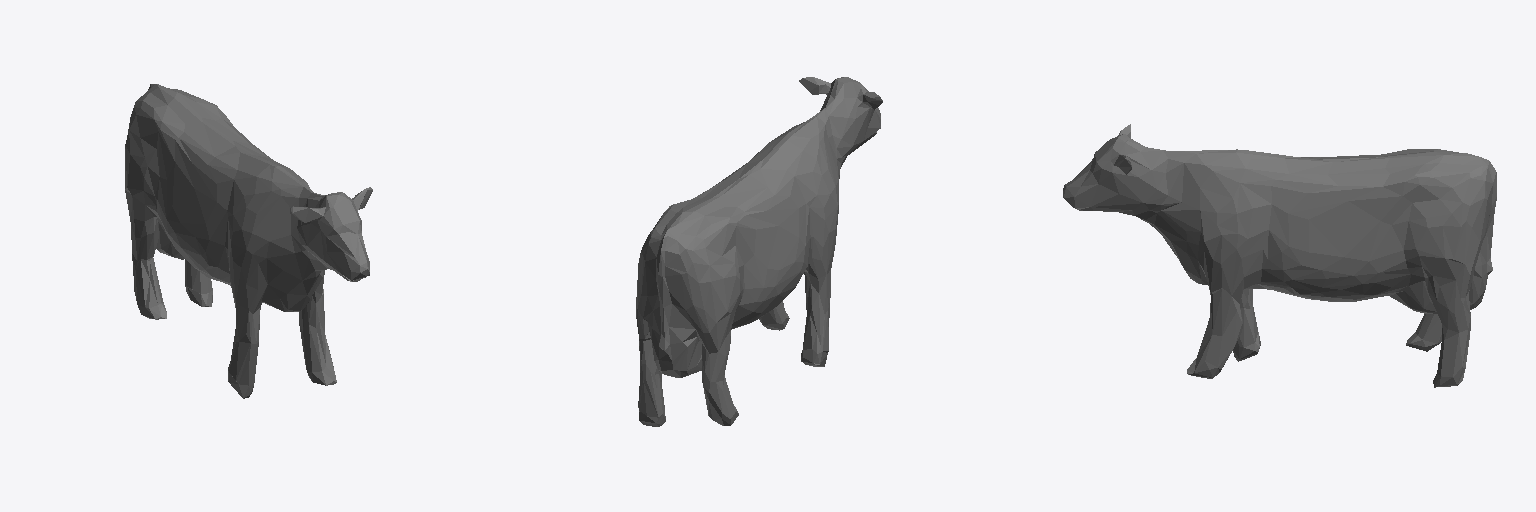
File: step1.obj
3 renders of one model, left to right at view 1: azimuth 30°, elevation 25°; view 2: azimuth 150°, elevation 25°; view 3: azimuth 270°, elevation 25°, orthographic.
Parts seen in each view (by area): view 1: Cow:cow; view 2: Cow:cow; view 3: Cow:cow.
Boxes of the visible parts, box(x1,y1,x2,y2) form: Cow:cow: box(125, 84, 372, 398); Cow:cow: box(636, 77, 882, 426); Cow:cow: box(1063, 124, 1496, 387).
Size of the model in its own units: 4.58 by 11.9 by 19.59.